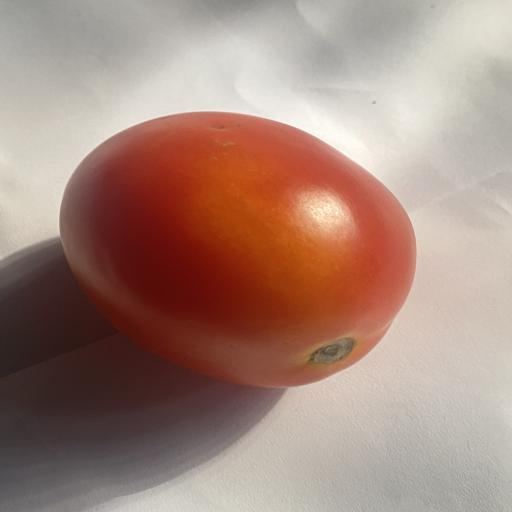ripe: (60, 112, 415, 387)
